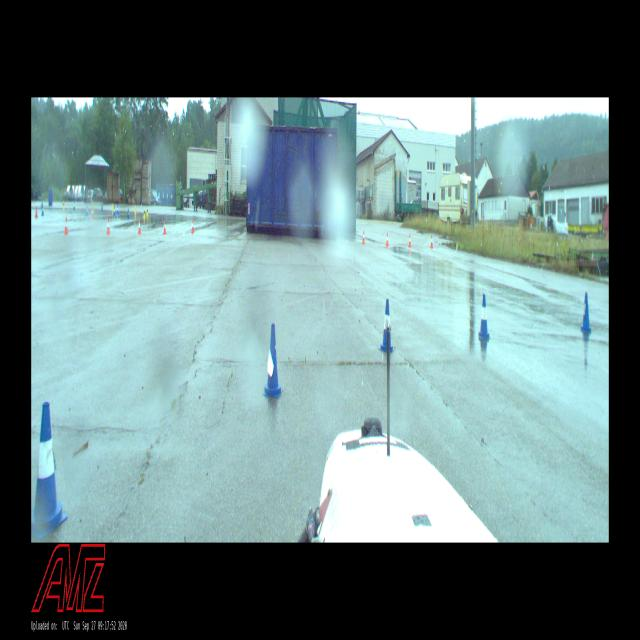blue_cone: (32, 403, 66, 537), (263, 324, 283, 397), (379, 300, 394, 352), (478, 294, 490, 339), (581, 294, 592, 332), (114, 206, 115, 216)
orange_cone: (64, 216, 68, 234), (106, 218, 110, 234), (362, 231, 366, 244), (163, 222, 167, 234), (191, 219, 194, 233), (138, 219, 141, 233), (386, 233, 389, 246), (408, 234, 411, 247), (430, 235, 433, 248)
yellow_cone: (143, 207, 146, 218)
